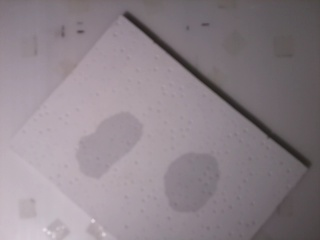Water_detected: (78, 113, 140, 175), (162, 152, 216, 204)
